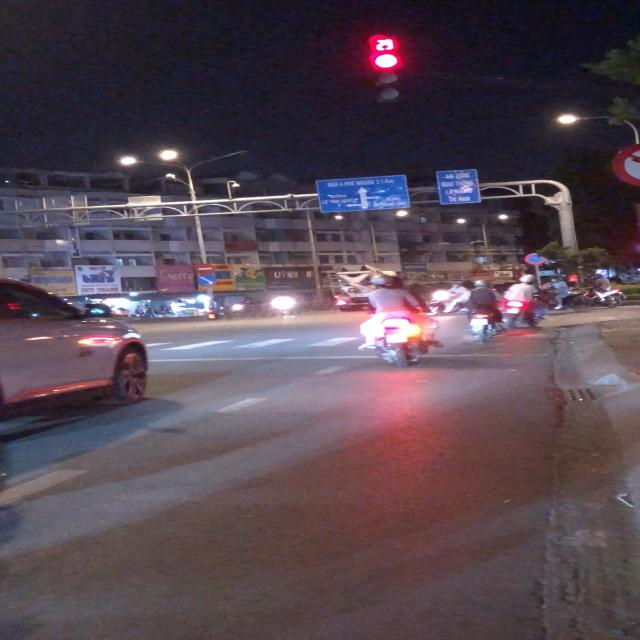Bien bao cam di nguoc chieu: (194, 263, 218, 274)
Bien bao huong phai di vong chuong ngai vat: (195, 274, 220, 286)
